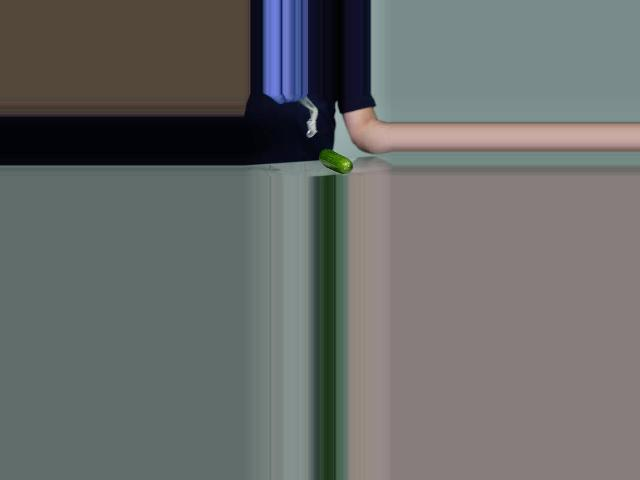cucumber: (319, 149, 353, 174)
